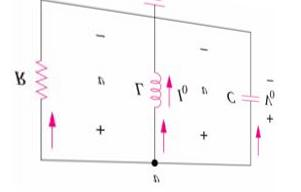inductor: (144, 63, 166, 118)
